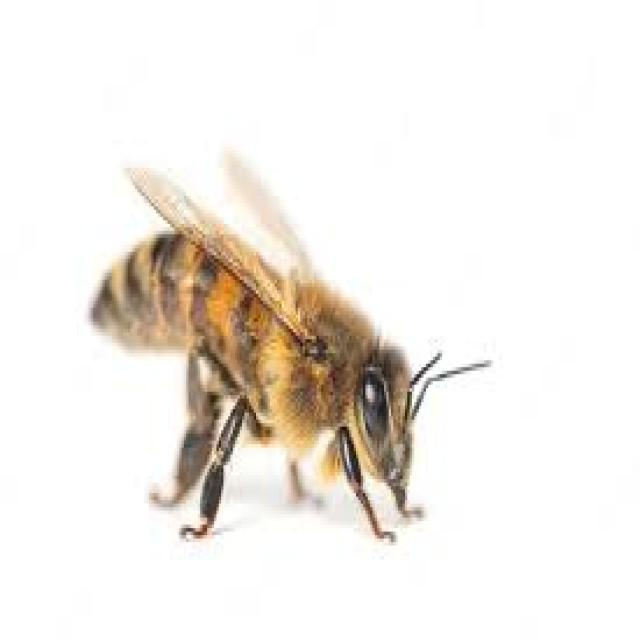Bees: (86, 150, 491, 544)
